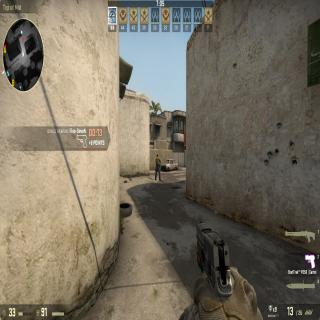T-Body: (154, 153, 161, 181)
T-Head: (155, 153, 159, 158)
